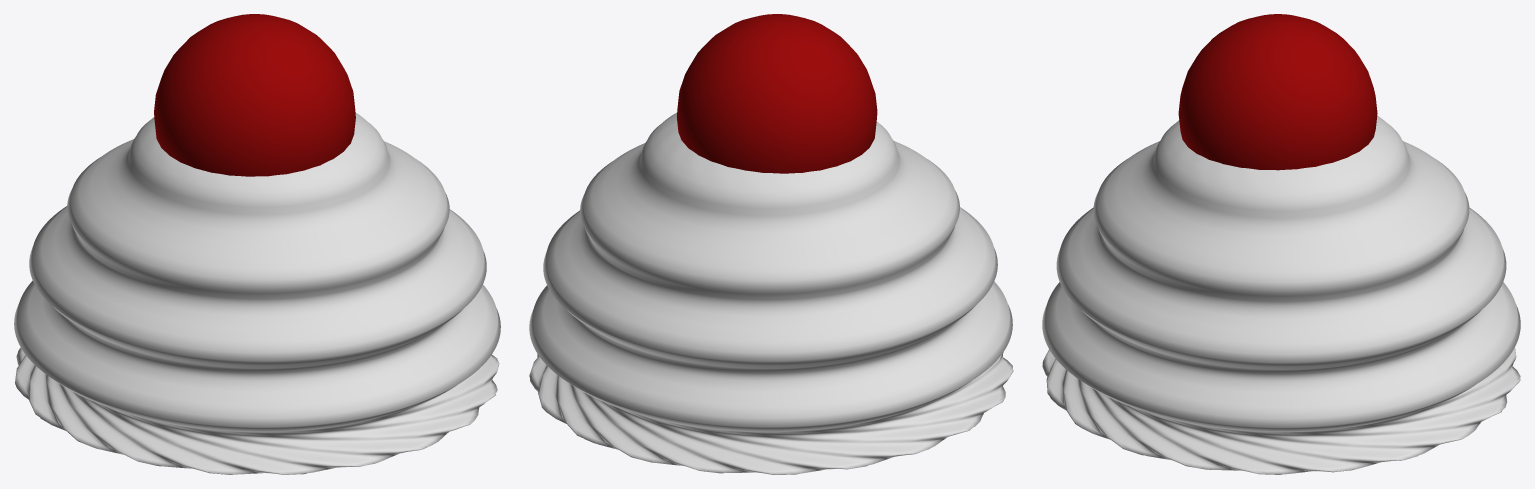
File: Whipped Cream.FBX
3 views of the same model, side by side, from view 1: azimuth 30°, elevation 25°; view 2: azimuth 150°, elevation 25°; view 3: azimuth 270°, elevation 25° (orthographic).
Parts seen in each view (by area): view 1: Cylinder002, Sphere006; view 2: Cylinder002, Sphere006; view 3: Cylinder002, Sphere006.
Part boxes in pixels (x1=…): Cylinder002: x1=14, y1=113, x2=500, y2=474; Sphere006: x1=154, y1=14, x2=355, y2=176; Cylinder002: x1=529, y1=112, x2=1013, y2=474; Sphere006: x1=676, y1=14, x2=877, y2=173; Cylinder002: x1=1042, y1=116, x2=1520, y2=474; Sphere006: x1=1178, y1=14, x2=1377, y2=170.
Bounding box in the file's own units: 22.41 × 18.56 × 22.4.
